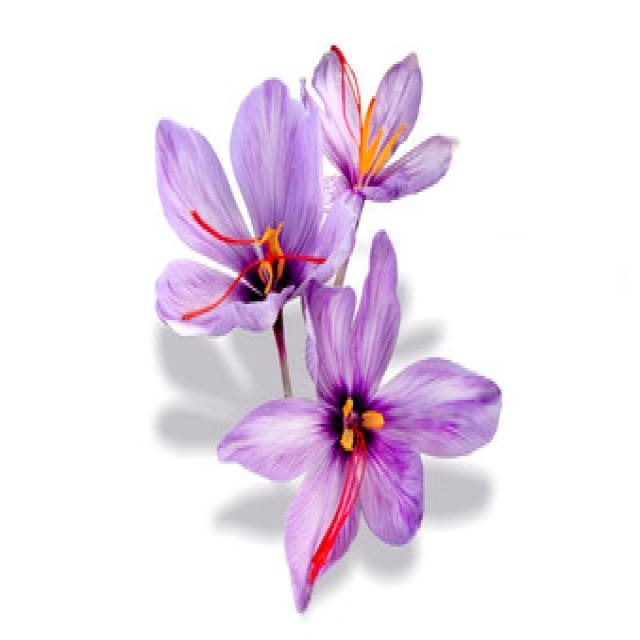Flower: (217, 231, 498, 610), (156, 80, 355, 338), (312, 48, 452, 223)
stigma: (303, 438, 367, 589), (179, 258, 268, 326), (322, 44, 361, 144), (187, 209, 264, 245), (274, 246, 332, 268)
